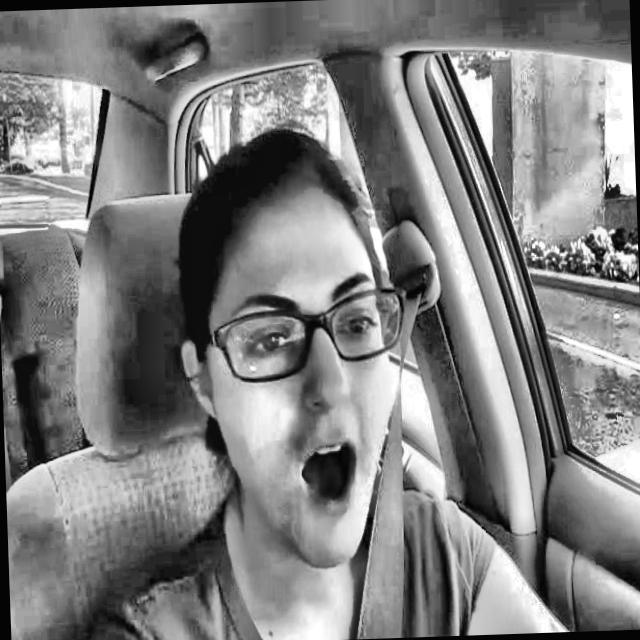open_eyes: (228, 319, 300, 369), (326, 295, 392, 349)
open_mouth: (280, 419, 372, 527)
